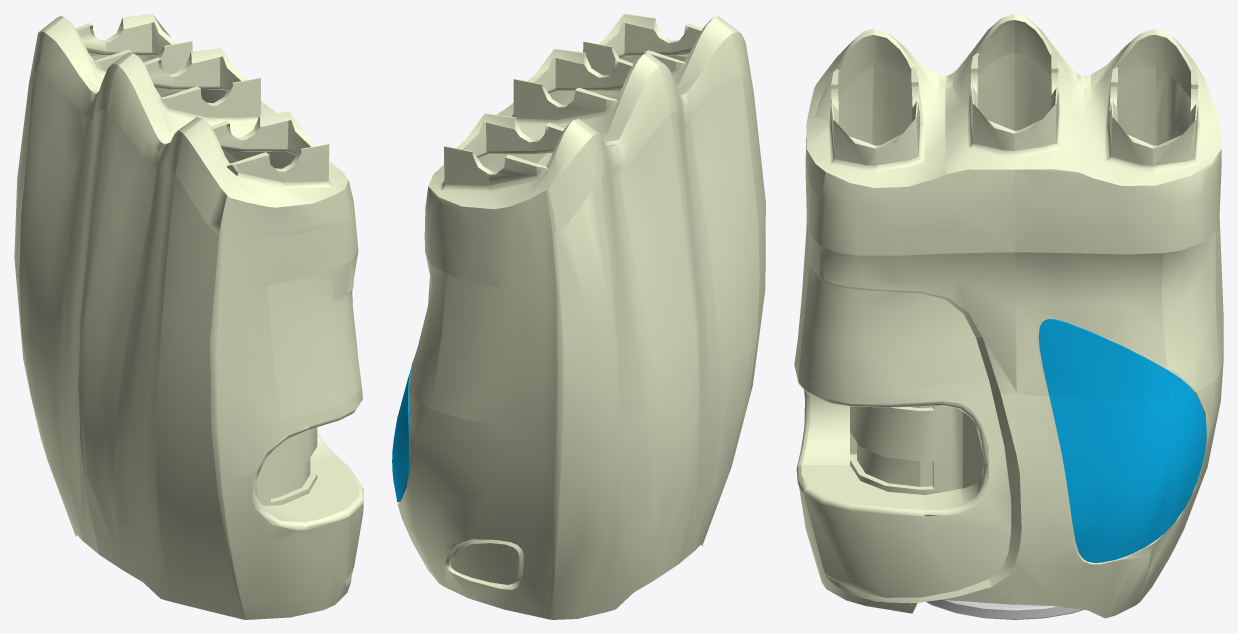
The model's file is left_palm.dae.
The picture shows the model from 3 angles, left to right: view 1: azimuth 30°, elevation 25°; view 2: azimuth 150°, elevation 25°; view 3: azimuth 270°, elevation 25°; orthographic projection.
Visible parts, largest first — view 1: ShapeIndexedFaceSet-Node_001; view 2: ShapeIndexedFaceSet-Node_001; view 3: ShapeIndexedFaceSet-Node_001.
Part boxes in pixels (x1,y1,x2,y2): ShapeIndexedFaceSet-Node_001: [14, 14, 363, 619]; ShapeIndexedFaceSet-Node_001: [392, 14, 765, 619]; ShapeIndexedFaceSet-Node_001: [794, 14, 1223, 619].
Bounding box in the file's own units: 0.0817 × 0.1232 × 0.1664.
